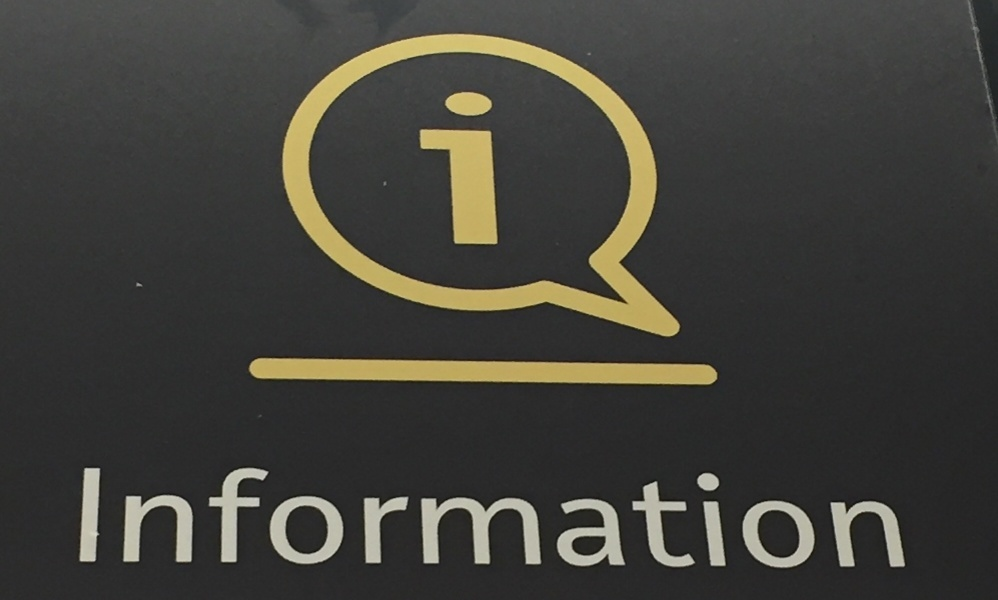text: (417, 91, 432, 246), (433, 91, 448, 246), (449, 91, 464, 246), (465, 91, 480, 246), (481, 91, 496, 246), (97, 467, 112, 569), (113, 467, 128, 569), (129, 467, 144, 569), (145, 467, 160, 569), (161, 467, 176, 569), (177, 467, 192, 569), (193, 467, 208, 569), (209, 467, 224, 569), (225, 467, 240, 569), (241, 467, 256, 569), (257, 467, 272, 569), (273, 467, 288, 569), (289, 467, 304, 569), (305, 467, 320, 569), (321, 467, 336, 569), (337, 467, 352, 569), (353, 467, 368, 569), (369, 467, 384, 569), (385, 467, 400, 569), (401, 467, 416, 569), (417, 467, 432, 569), (433, 467, 448, 569), (449, 467, 464, 569), (465, 467, 480, 569), (481, 467, 496, 569), (497, 467, 512, 569), (513, 467, 528, 569), (529, 467, 544, 569), (545, 467, 560, 569), (561, 467, 576, 569), (577, 467, 592, 569), (593, 467, 608, 569), (609, 467, 624, 569), (625, 467, 640, 569), (641, 467, 656, 569), (657, 467, 672, 569), (673, 467, 688, 569), (689, 467, 704, 569), (705, 467, 720, 569), (721, 467, 736, 569), (737, 467, 752, 569), (753, 467, 768, 569), (769, 467, 784, 569), (785, 467, 800, 569), (801, 467, 816, 569), (817, 467, 832, 569), (833, 467, 848, 569), (849, 467, 864, 569), (865, 467, 880, 569), (881, 467, 896, 569), (83, 467, 96, 569), (897, 467, 907, 569), (497, 91, 500, 246)
